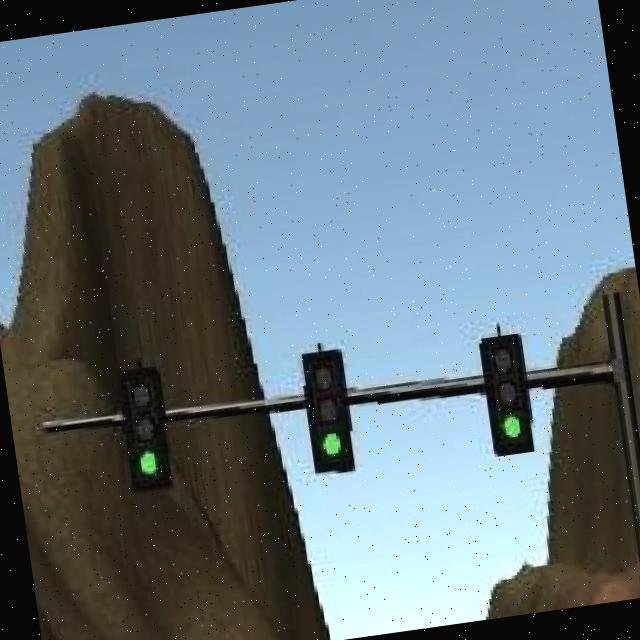Zielone swiatlo: (117, 366, 177, 494), (302, 347, 358, 476), (481, 332, 537, 457)
